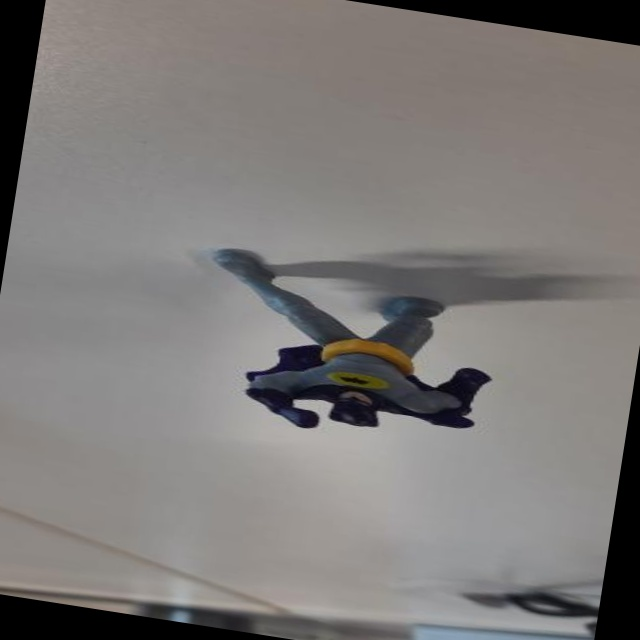Batman: (175, 235, 511, 459)
